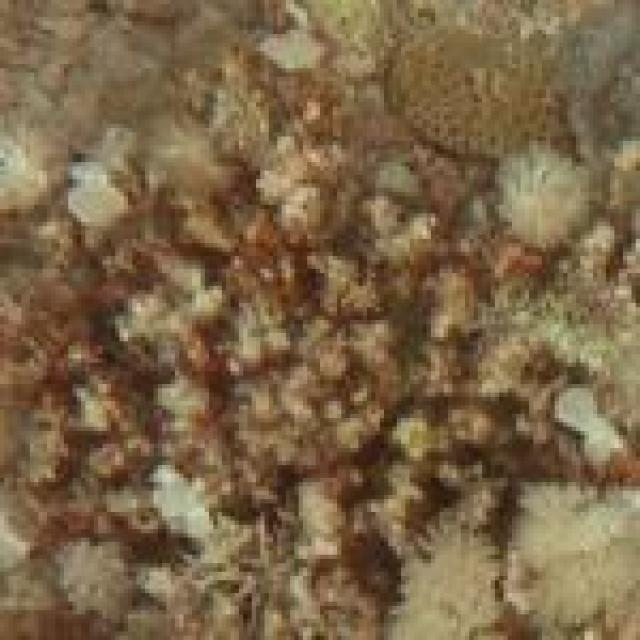Healthy Coral: (385, 4, 554, 189)
